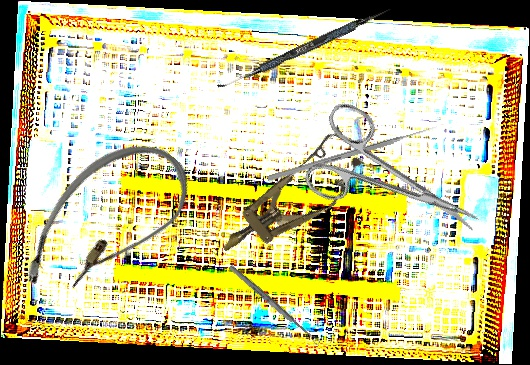Cannula: (5, 117, 206, 329)
Iris Scissors: (293, 98, 498, 269)
Pusher: (266, 124, 439, 182)
Spatula Surgical: (217, 2, 392, 95)
Speculum: (205, 125, 375, 274)
Surgical Spoon: (227, 263, 322, 347)
